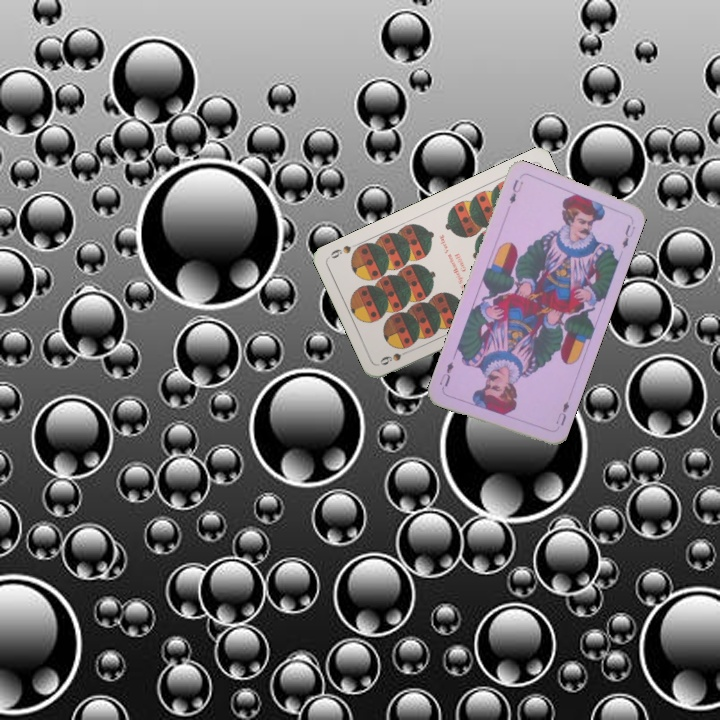EU: (551, 397, 572, 428), (505, 175, 526, 206)
S9: (376, 345, 415, 368)
